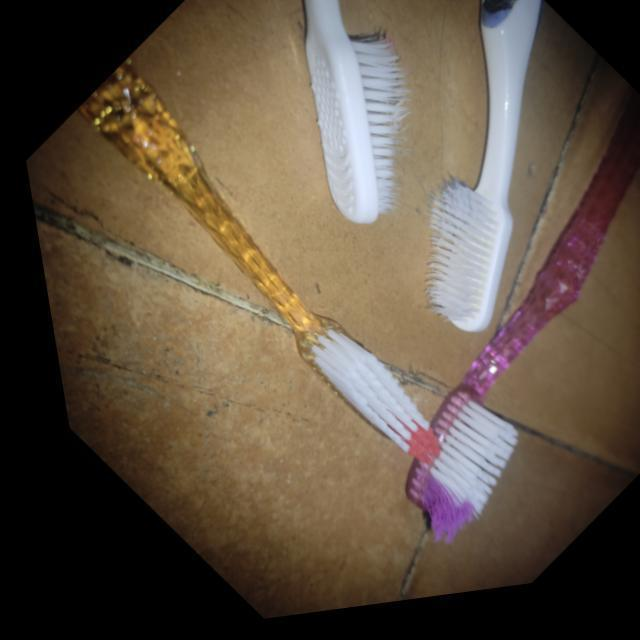toothbrush: (69, 53, 440, 488), (376, 91, 640, 558), (403, 0, 542, 358), (285, 0, 425, 245)
